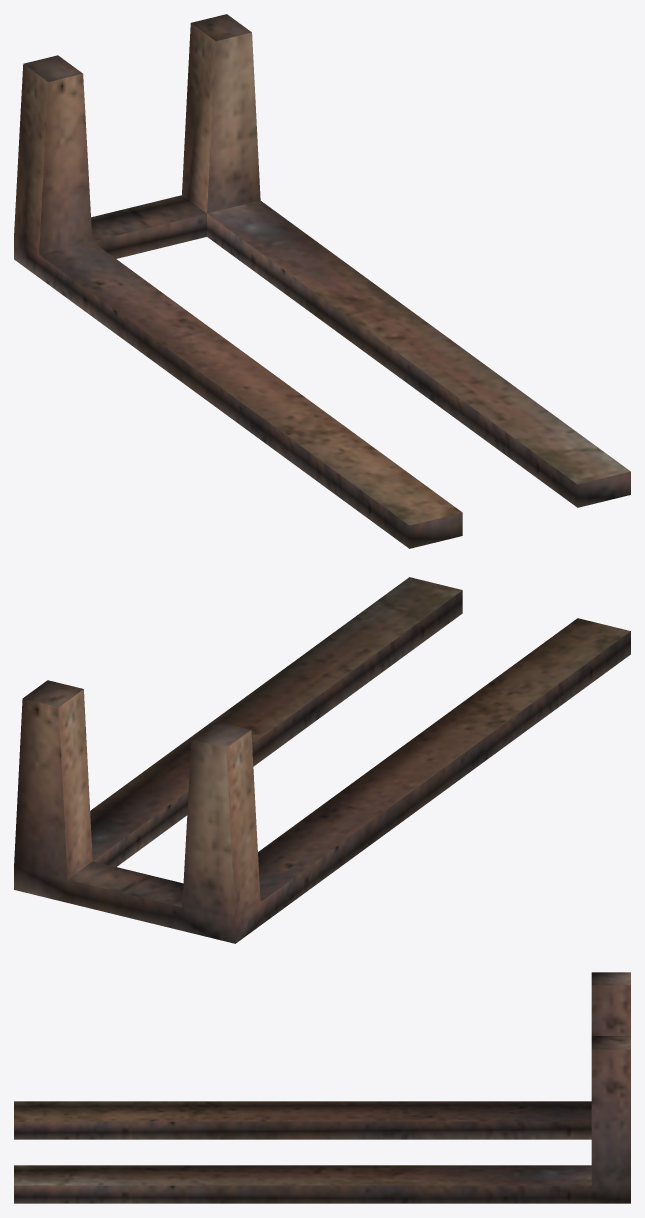
File: wall_mount.obj
The picture shows the model from 3 angles, top to bottom: view 1: azimuth 30°, elevation 25°; view 2: azimuth 150°, elevation 25°; view 3: azimuth 270°, elevation 25°; orthographic projection. The views are drawn at different scales.
Parts seen in each view (by area): view 1: wall_mount.obj; view 2: wall_mount.obj; view 3: wall_mount.obj.
Boxes of the visible parts, x1,y1,x2,y2 form: wall_mount.obj: [14, 14, 630, 548]; wall_mount.obj: [14, 577, 630, 943]; wall_mount.obj: [14, 972, 630, 1203].
Size of the model in its own units: 0.8186 by 0.683 by 2.53.
1 material, 1 textured.
